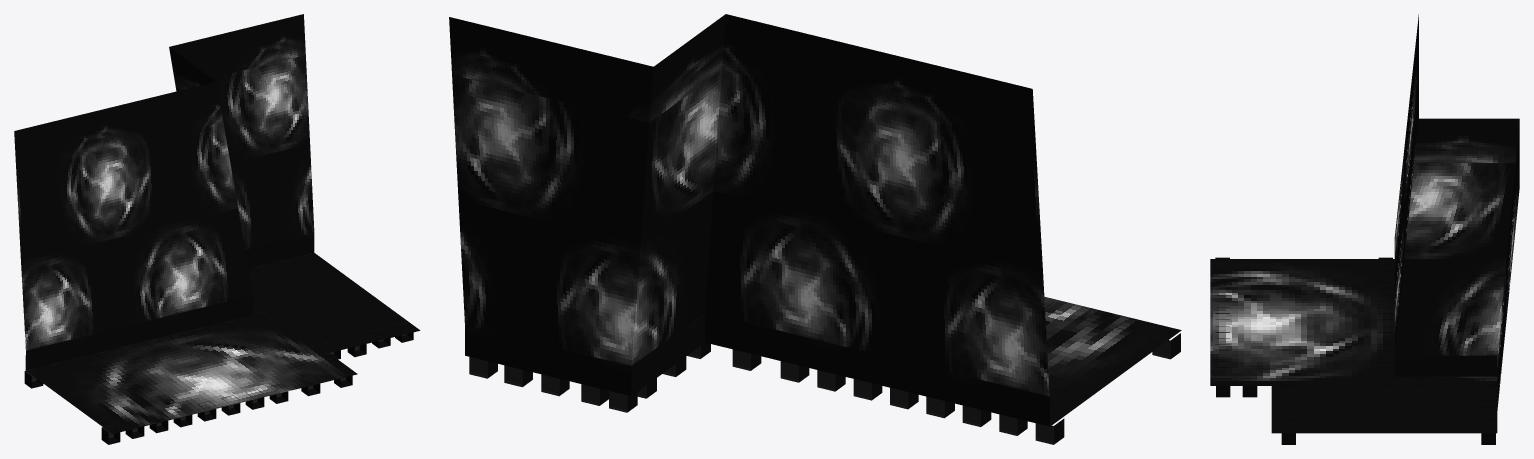
Rendered from chengqiang_05.FBX.
The picture shows the model from 3 angles, left to right: view 1: azimuth 30°, elevation 25°; view 2: azimuth 150°, elevation 25°; view 3: azimuth 270°, elevation 25°; orthographic projection. The views are drawn at different scales.
Visible parts, largest first — view 1: Object032; view 2: Object032; view 3: Object032.
Boxes of the visible parts, x1,y1,x2,y2 form: Object032: [14, 14, 420, 444]; Object032: [449, 14, 1181, 444]; Object032: [1210, 14, 1519, 444].
Bounding box in the file's own units: 3649 × 2721 × 2532.
